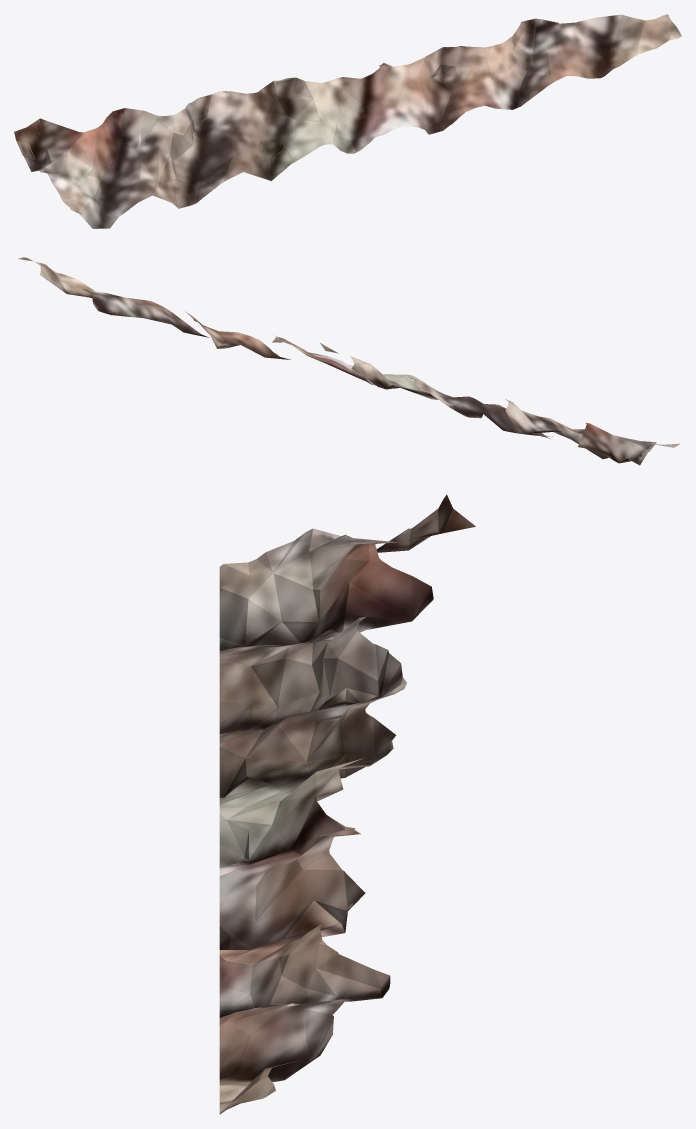
The picture shows the model from 3 angles, top to bottom: view 1: azimuth 30°, elevation 25°; view 2: azimuth 150°, elevation 25°; view 3: azimuth 270°, elevation 25°; orthographic projection. The views are drawn at different scales.
Size of the model in its own units: 1.67 by 0.1692 by 0.3043.
1 material, 1 textured.
